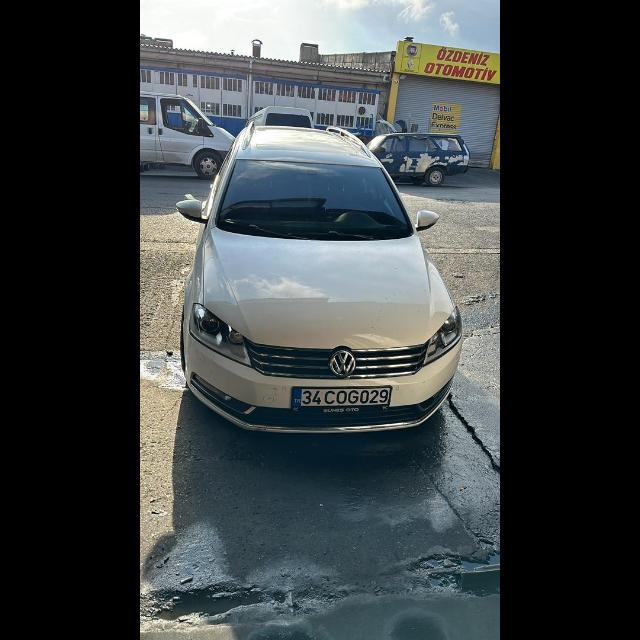Plaka: (292, 384, 390, 404)
